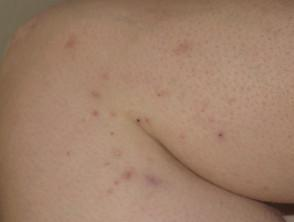Eczema: (64, 36, 77, 53), (89, 89, 106, 102), (148, 175, 163, 187), (181, 38, 191, 55), (100, 70, 112, 83), (174, 42, 185, 56), (89, 110, 104, 120), (124, 170, 134, 183), (62, 149, 75, 158), (154, 91, 164, 101), (114, 150, 125, 159), (134, 117, 144, 126), (140, 117, 151, 125), (105, 188, 115, 196), (112, 112, 119, 122), (218, 131, 225, 140), (179, 133, 185, 143), (109, 130, 116, 138), (113, 181, 120, 188), (107, 158, 112, 167)
